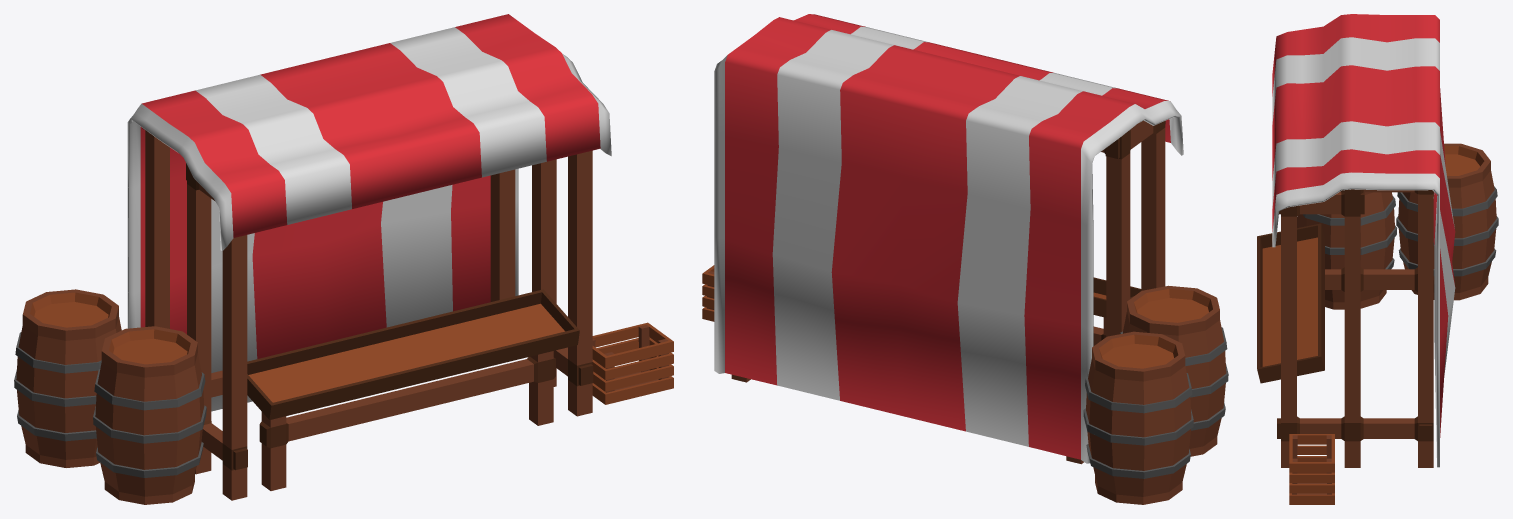
Rendered from MarketStall.fbx.
3 renders of one model, left to right at view 1: azimuth 30°, elevation 25°; view 2: azimuth 150°, elevation 25°; view 3: azimuth 270°, elevation 25°, orthographic. The views are drawn at different scales.
Parts seen in each view (by area): view 1: MarketStall; view 2: MarketStall; view 3: MarketStall.
Boxes of the visible parts, x1,y1,x2,y2 form: MarketStall: (14,14,673,504); MarketStall: (702,14,1228,504); MarketStall: (1257,14,1498,504).
Size of the model in its own units: 3.6 by 2.06 by 1.52.
